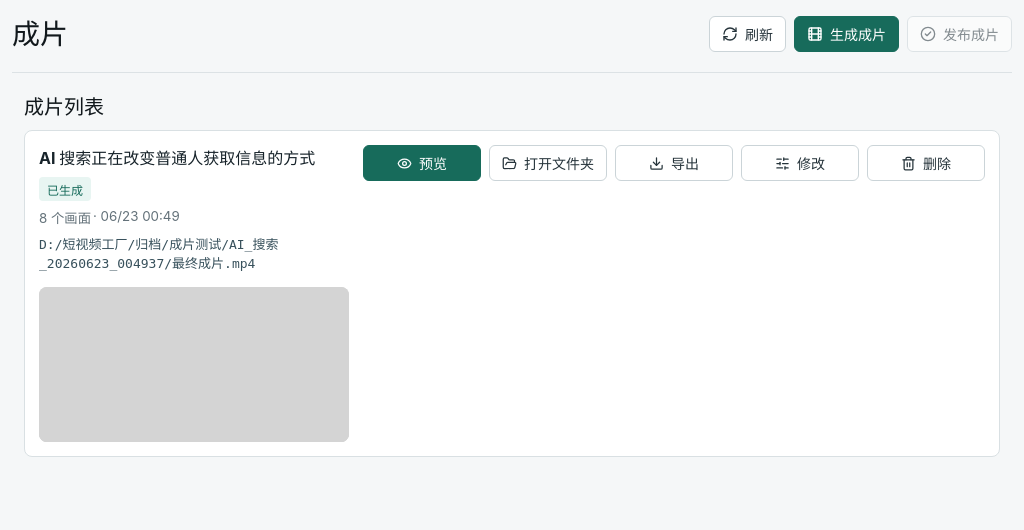
Test: 成片页面 › 可以打开文件夹、导出、删除成片记录
The image size is (1024, 530).
expect the text "AI 搜索正在改变普通人获取信息的方式" is shown: met, box top-left (39, 145), bottom-right (315, 169)
Click the button "打开文件夹". click: [548, 163]
box: top-left (489, 145), bottom-right (607, 181)
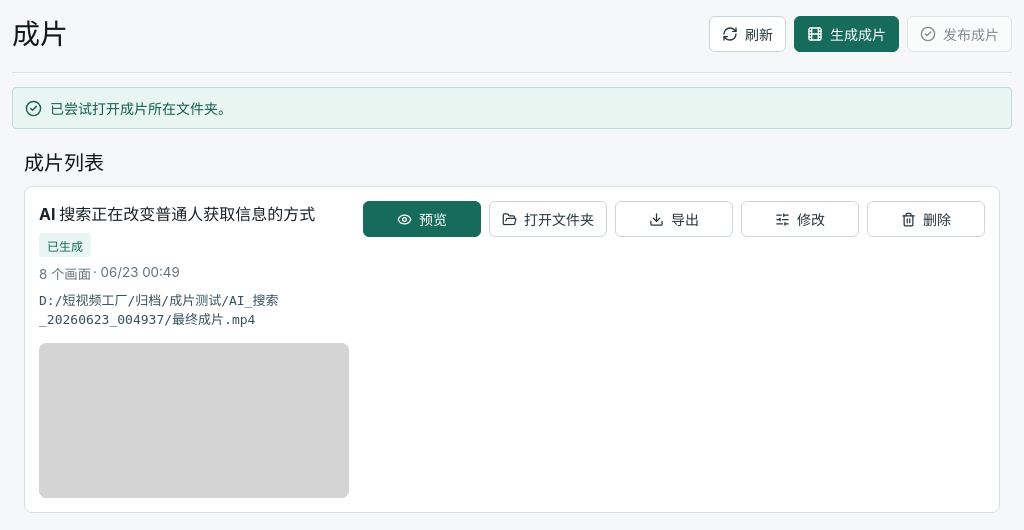
Click the button "导出". click: [674, 219]
box: top-left (615, 201), bottom-right (733, 237)
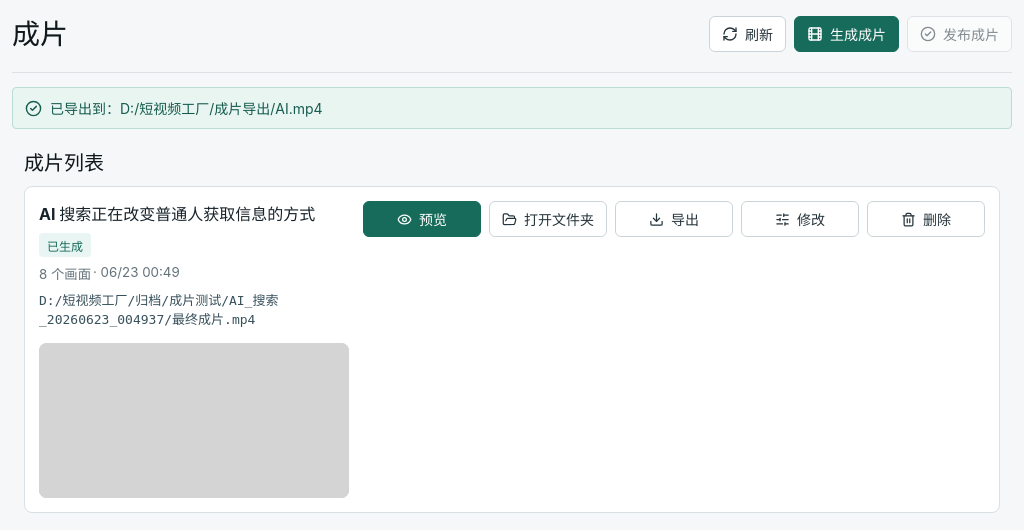
Click the button "删除". click: [926, 219]
box: top-left (867, 201), bottom-right (985, 237)
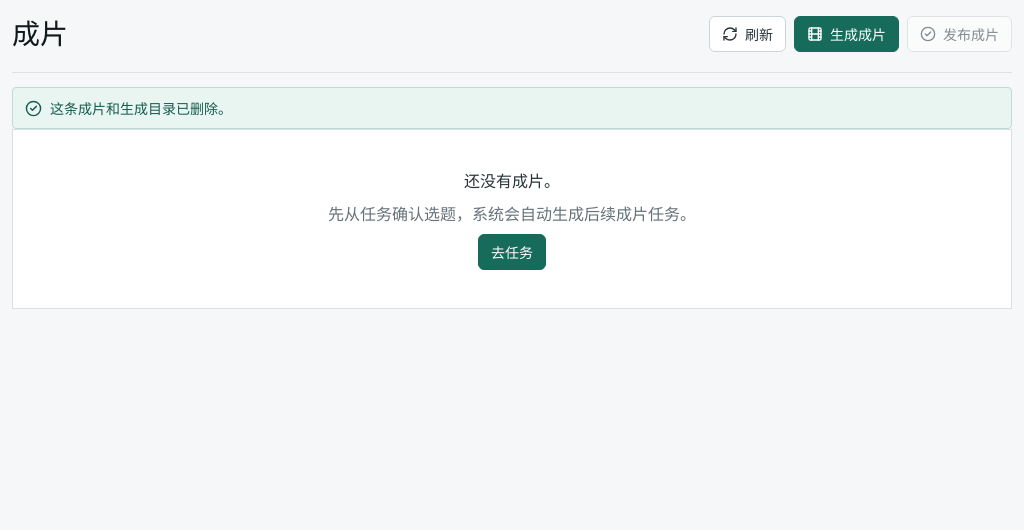
expect the text "AI 搜索正在改变普通人获取信息的方式" is gone: met
expect the text "这条成片和生成目录已删除。" is shown: met, box top-left (12, 87), bottom-right (1012, 129)
